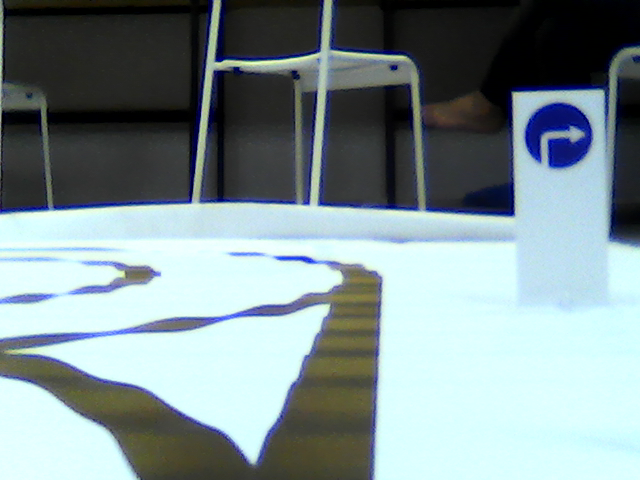Right: (521, 104, 594, 165)
